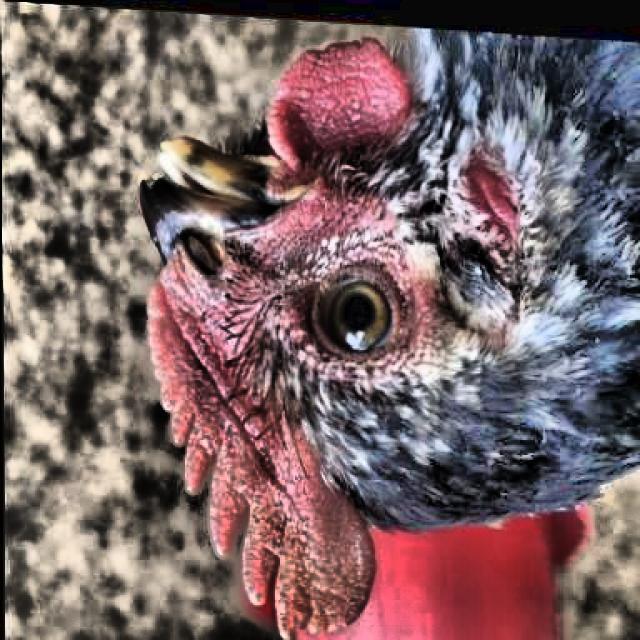Healthy: (288, 253, 420, 382)
